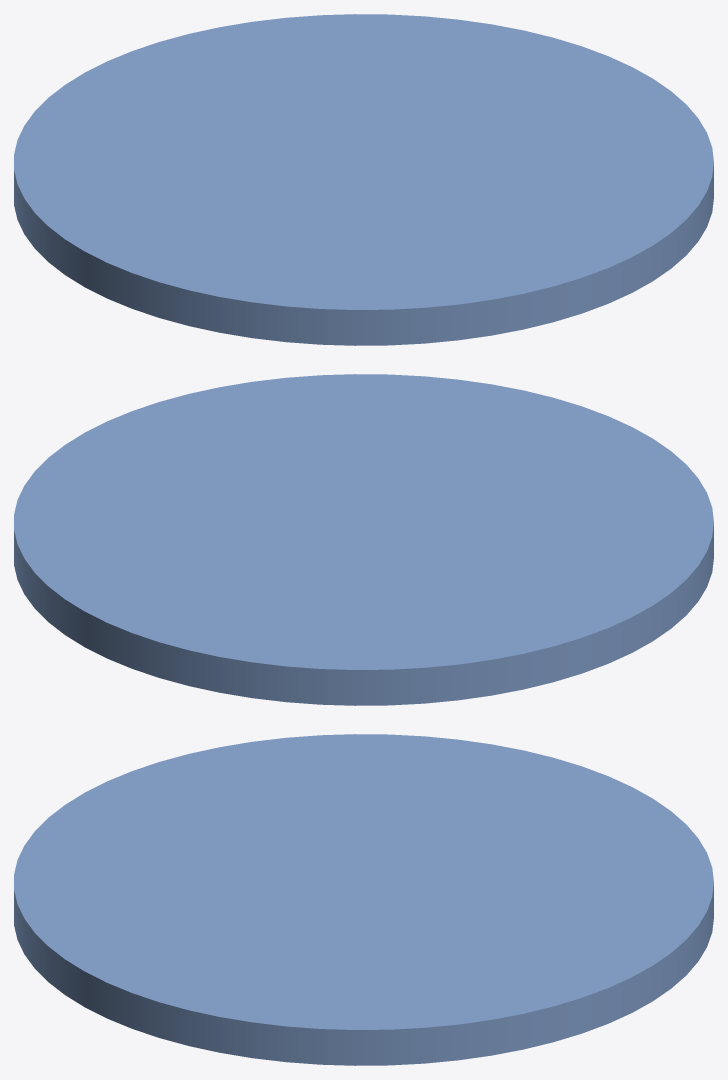
Rendered from step_49.glb.
3 views of the same model, one above another, from view 1: azimuth 30°, elevation 25°; view 2: azimuth 150°, elevation 25°; view 3: azimuth 270°, elevation 25° (orthographic).
Parts seen in each view (by area): view 1: part__4" needle valve bonnet and stem; view 2: part__4" needle valve bonnet and stem; view 3: part__4" needle valve bonnet and stem.
Part boxes in pixels (<box>): part__4" needle valve bonnet and stem: <box>14,14,713,345</box>; part__4" needle valve bonnet and stem: <box>14,374,713,705</box>; part__4" needle valve bonnet and stem: <box>14,734,713,1065</box>.
Size of the model in its own units: 162 by 9.14 by 162.
